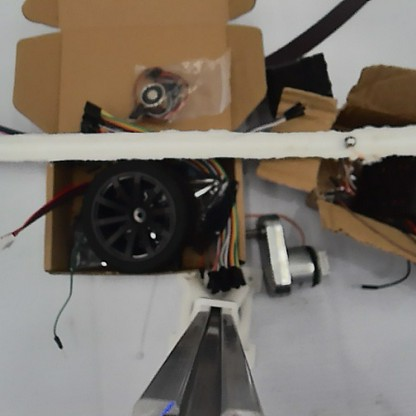ironball: (339, 130, 356, 150)
